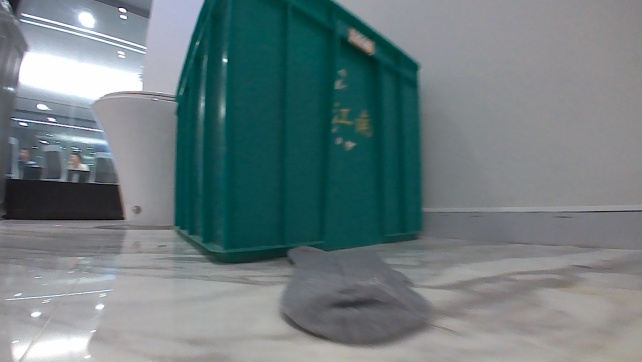socks: (278, 241, 434, 345)
toilet: (87, 85, 180, 230)
